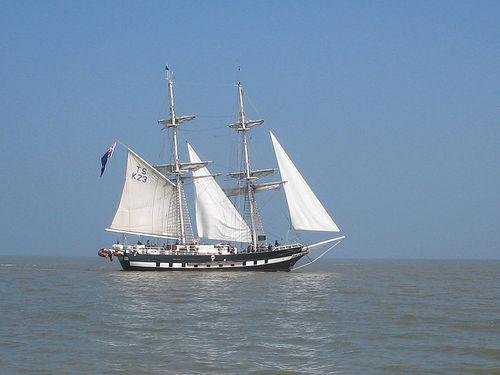Ship: (99, 65, 346, 274)
